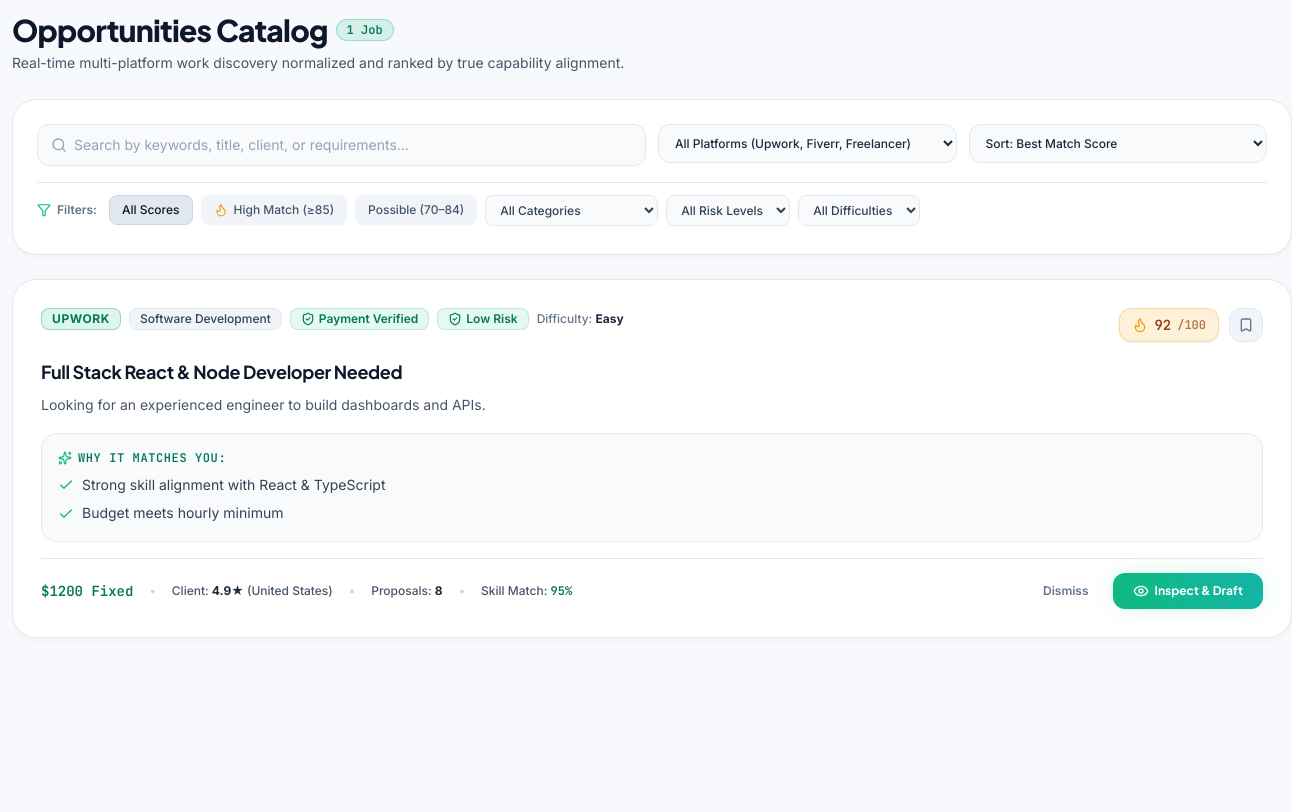
Test: Jobs Catalog & Job Details Modal Components › JobsView Component › displays empty state when search matches no jobs
Type "NonexistentKeywordXYZ" into the field with placeholder "Search by keywords, title, client, or requirements..." at (342, 145), box [37,124,646,166]
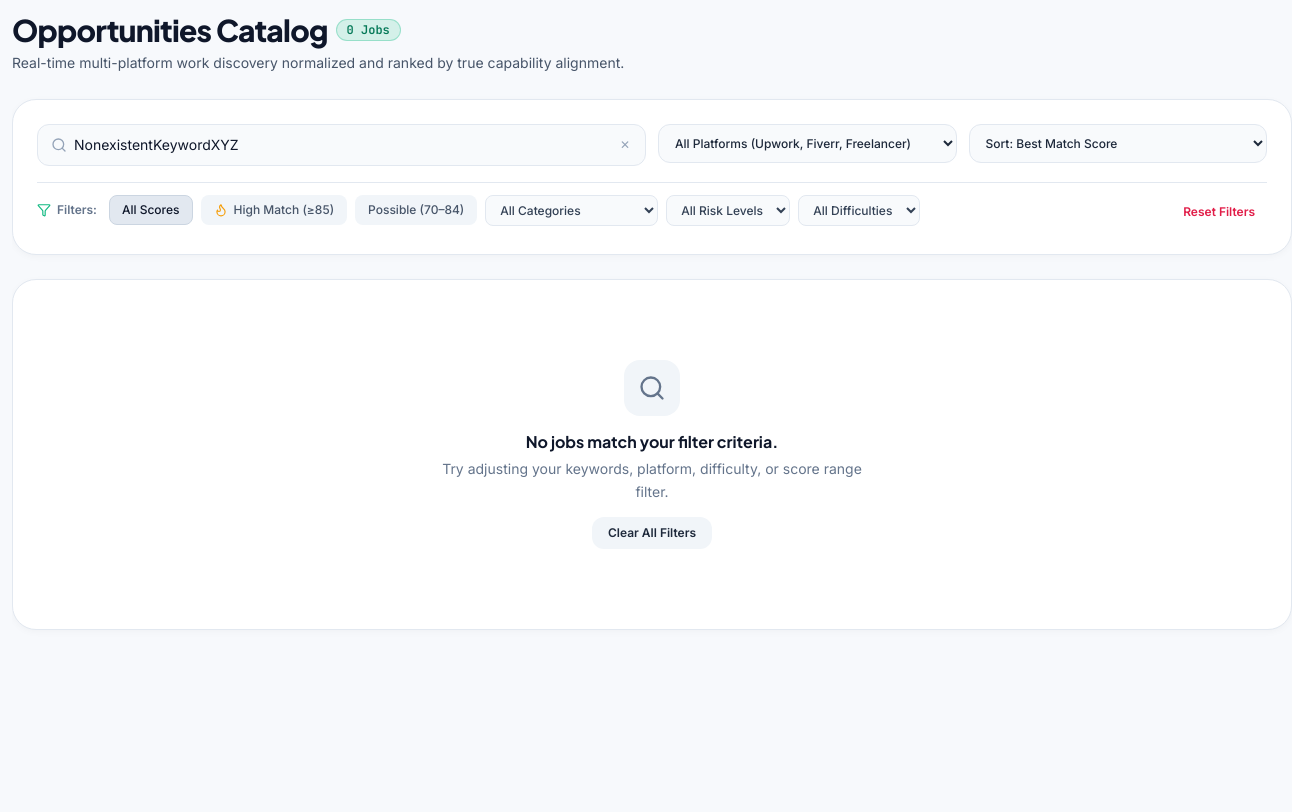
Expected: the text "No jobs match your filter criteria." is shown, [526,431,778,452]
Click the button "Clear All Filters" at (652, 533), box [592,517,712,549]
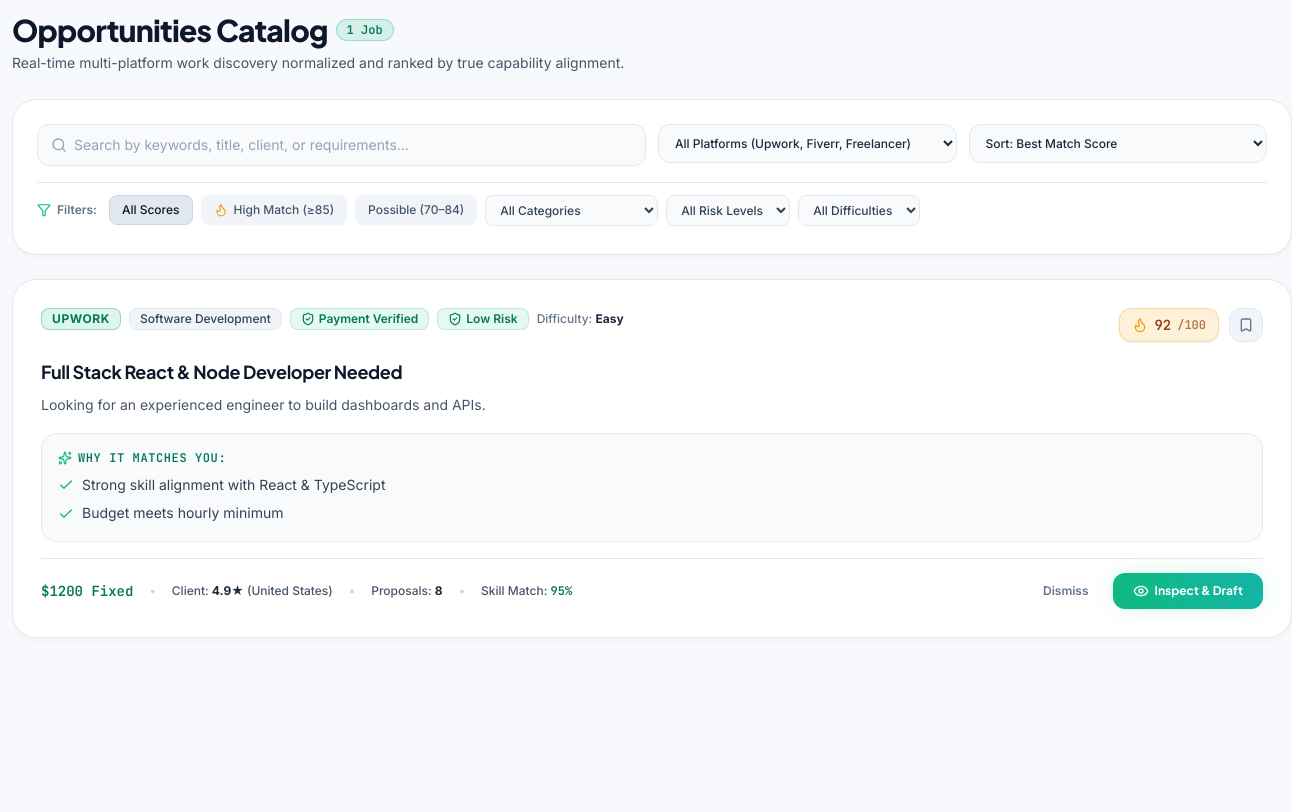
Expected: the heading "Full Stack React & Node Developer Needed" is shown, [41,360,402,383]
